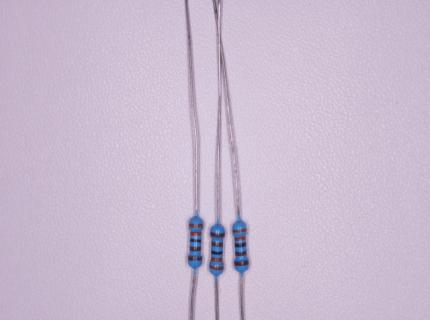Black band: (212, 250, 223, 255), (235, 242, 246, 247), (190, 239, 201, 242)
Brown band: (234, 260, 248, 266), (210, 232, 225, 237), (188, 256, 202, 261), (235, 250, 246, 256), (212, 242, 223, 247), (190, 247, 201, 251)
Orange band: (210, 265, 223, 270), (188, 224, 203, 228), (190, 231, 201, 236), (211, 257, 222, 262), (235, 236, 245, 241), (233, 229, 247, 232)
